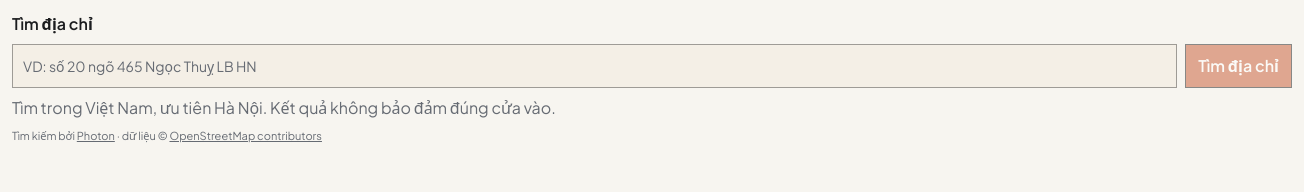
rejects empty or malformed results: []
Type "Ngọc Thụy" into the field labelled "Tìm địa chỉ" at (595, 66), box [12,44,1177,88]
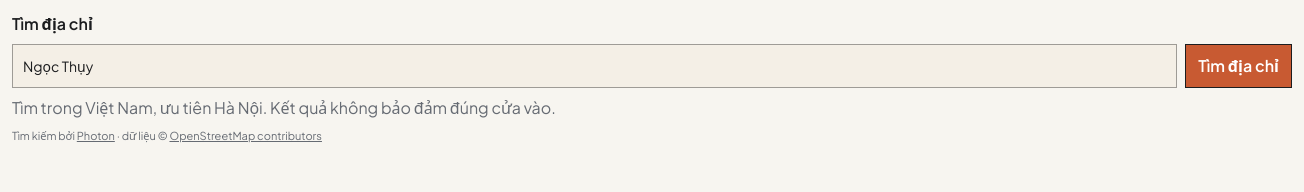
Click the button "Tìm địa chỉ" at (1239, 66), box [1185,44,1292,88]
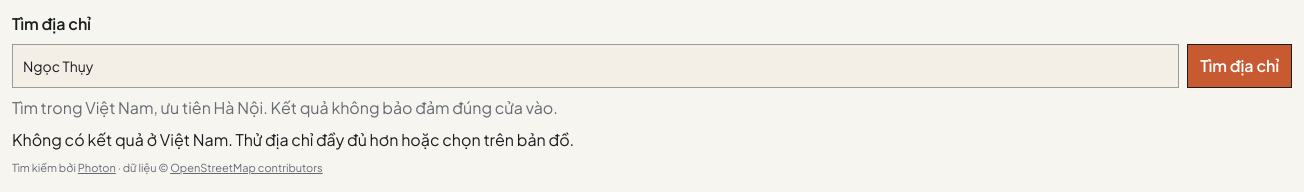
Now the message shows "Không có kết quả", box [12,129,574,150]
